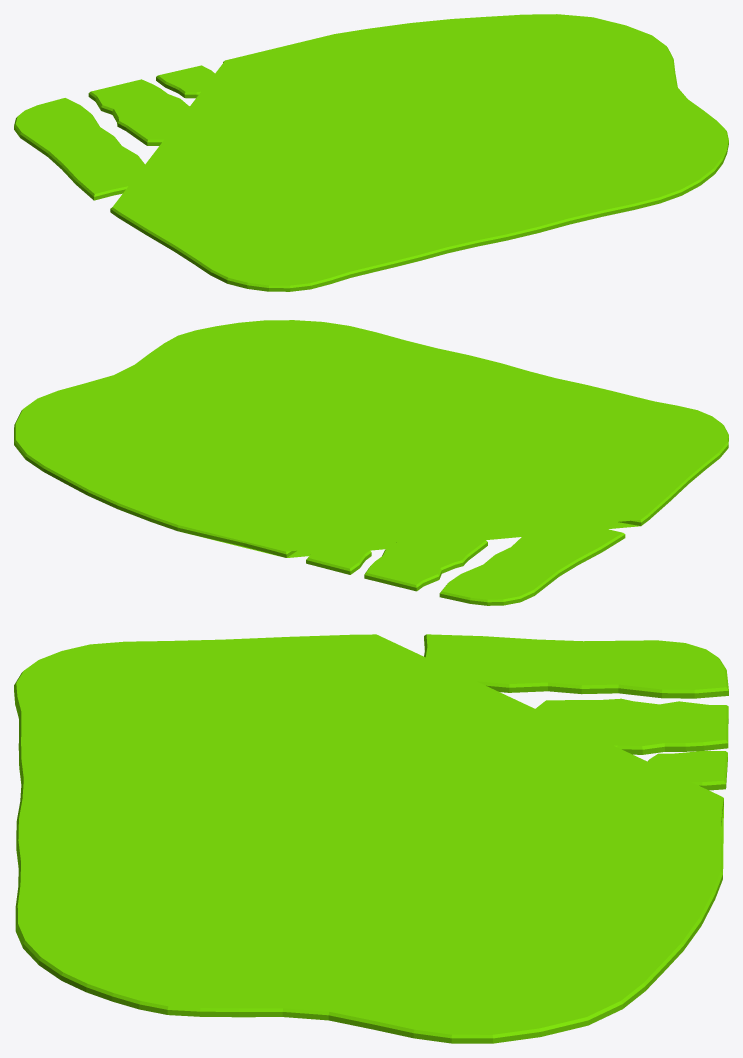
File: Grass2.fbx
The picture shows the model from 3 angles, top to bottom: view 1: azimuth 30°, elevation 25°; view 2: azimuth 150°, elevation 25°; view 3: azimuth 270°, elevation 25°; orthographic projection. The views are drawn at different scales.
Visible parts, largest first — view 1: Cylinder.001; view 2: Cylinder.001; view 3: Cylinder.001.
Part boxes in pixels (x1,y1,x2,y2): Cylinder.001: (14, 14, 728, 291); Cylinder.001: (14, 320, 728, 605); Cylinder.001: (14, 634, 728, 1043).
Size of the model in its own units: 494 by 4.48 by 371.
